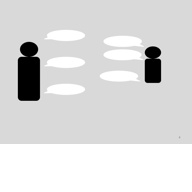left_speech: (41, 53, 87, 70), (41, 80, 86, 97), (42, 26, 86, 43)
right_speech: (101, 32, 145, 48), (98, 69, 142, 84), (101, 48, 145, 63)
